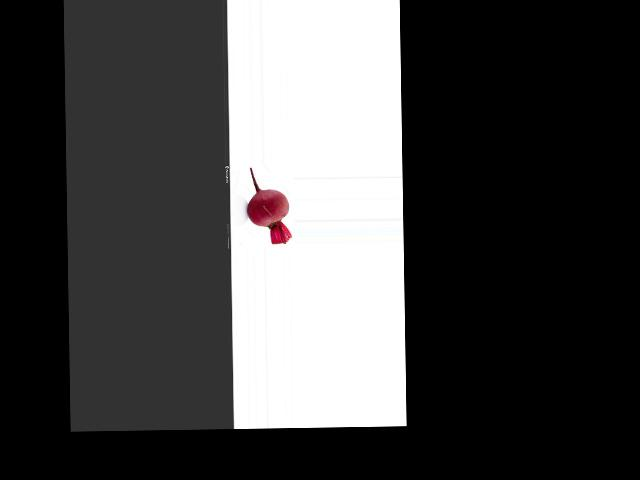beet: (246, 167, 291, 245)
